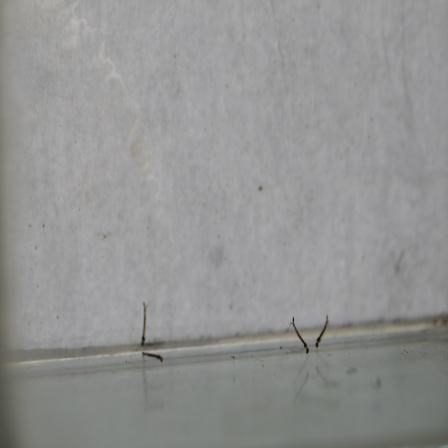Jentik-Nyamuk: (287, 312, 311, 357), (139, 299, 155, 346), (315, 314, 333, 349)
